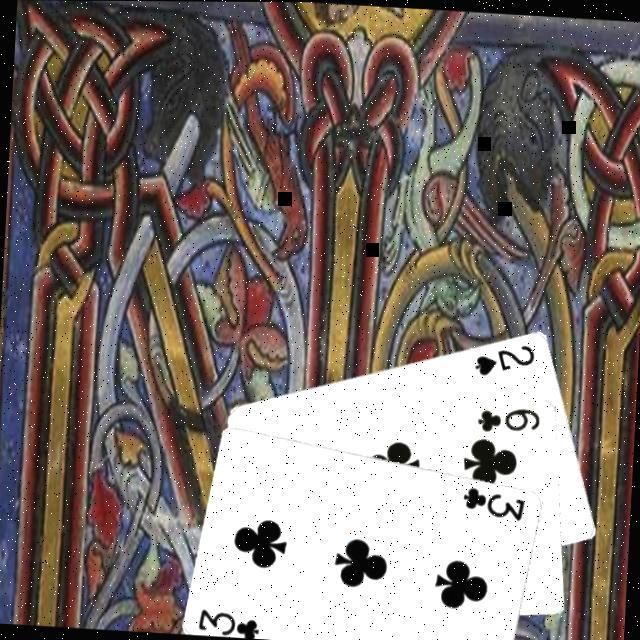2S: (473, 339, 540, 382)
3C: (460, 483, 530, 524), (197, 606, 266, 639)
6C: (475, 402, 546, 438)
